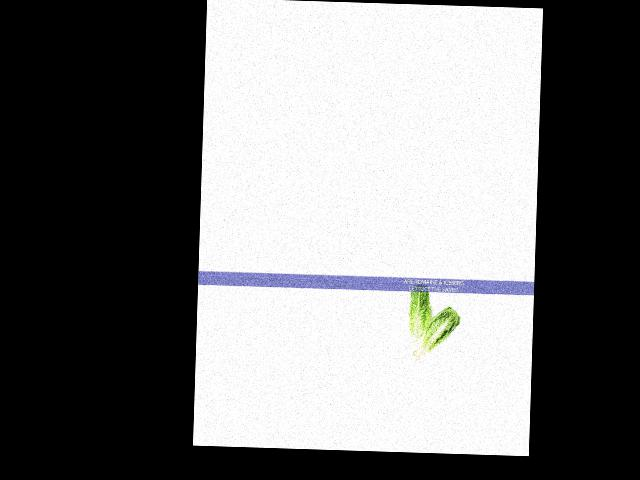lettuce: (412, 302, 458, 368)
